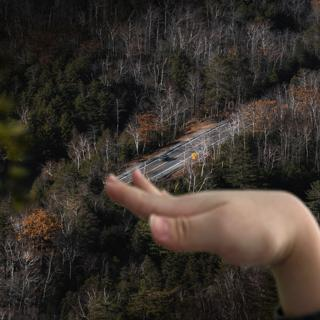Wait: (93, 164, 314, 272)
